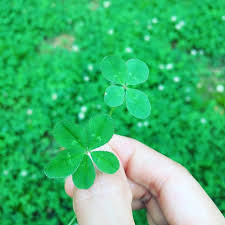4-clover: (99, 55, 152, 121)
